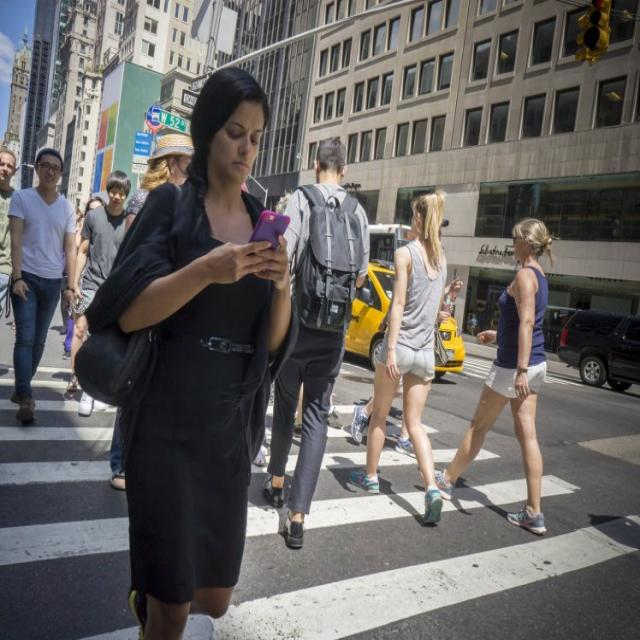body: (69, 57, 302, 639), (258, 131, 374, 553), (418, 217, 556, 535), (340, 185, 452, 530), (108, 130, 198, 493), (363, 204, 450, 463), (6, 146, 78, 425), (322, 444, 532, 534), (72, 165, 133, 420), (64, 196, 108, 394), (59, 208, 86, 362), (0, 144, 16, 324), (465, 311, 479, 337)
